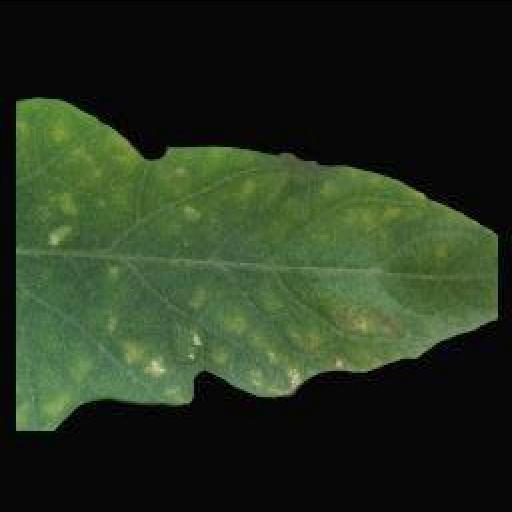disease_tomato: (16, 96, 498, 430)
